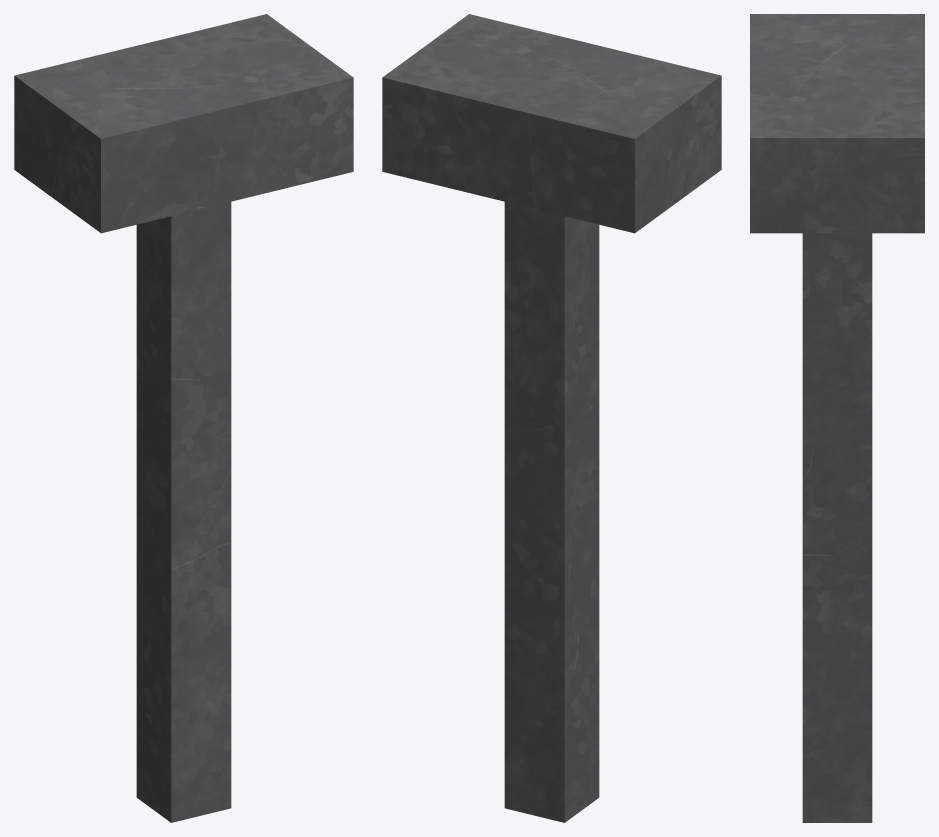
The model's file is Hammer.fbx.
3 views of the same model, side by side, from view 1: azimuth 30°, elevation 25°; view 2: azimuth 150°, elevation 25°; view 3: azimuth 270°, elevation 25° (orthographic).
Visible parts, largest first — view 1: Cube; view 2: Cube; view 3: Cube.
Boxes of the visible parts, bbox=[...] form: Cube: bbox=[14, 14, 353, 822]; Cube: bbox=[382, 14, 721, 822]; Cube: bbox=[750, 14, 924, 822].
Bounding box in the file's own units: 0.84 × 2.31 × 0.5.
